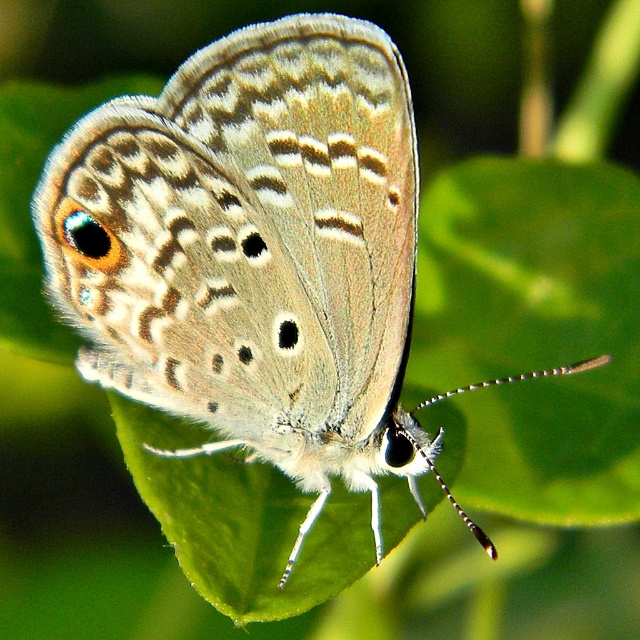Butterfly: (46, 13, 584, 634)
